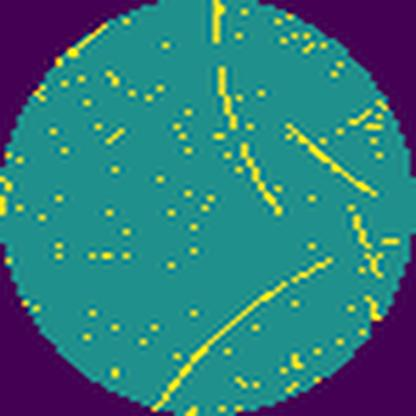Scratch: (150, 255, 335, 411), (216, 64, 287, 220), (287, 123, 384, 204), (349, 203, 386, 280), (207, 0, 228, 46)
